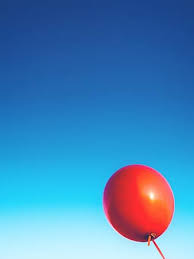Balloon: (103, 164, 175, 242)
